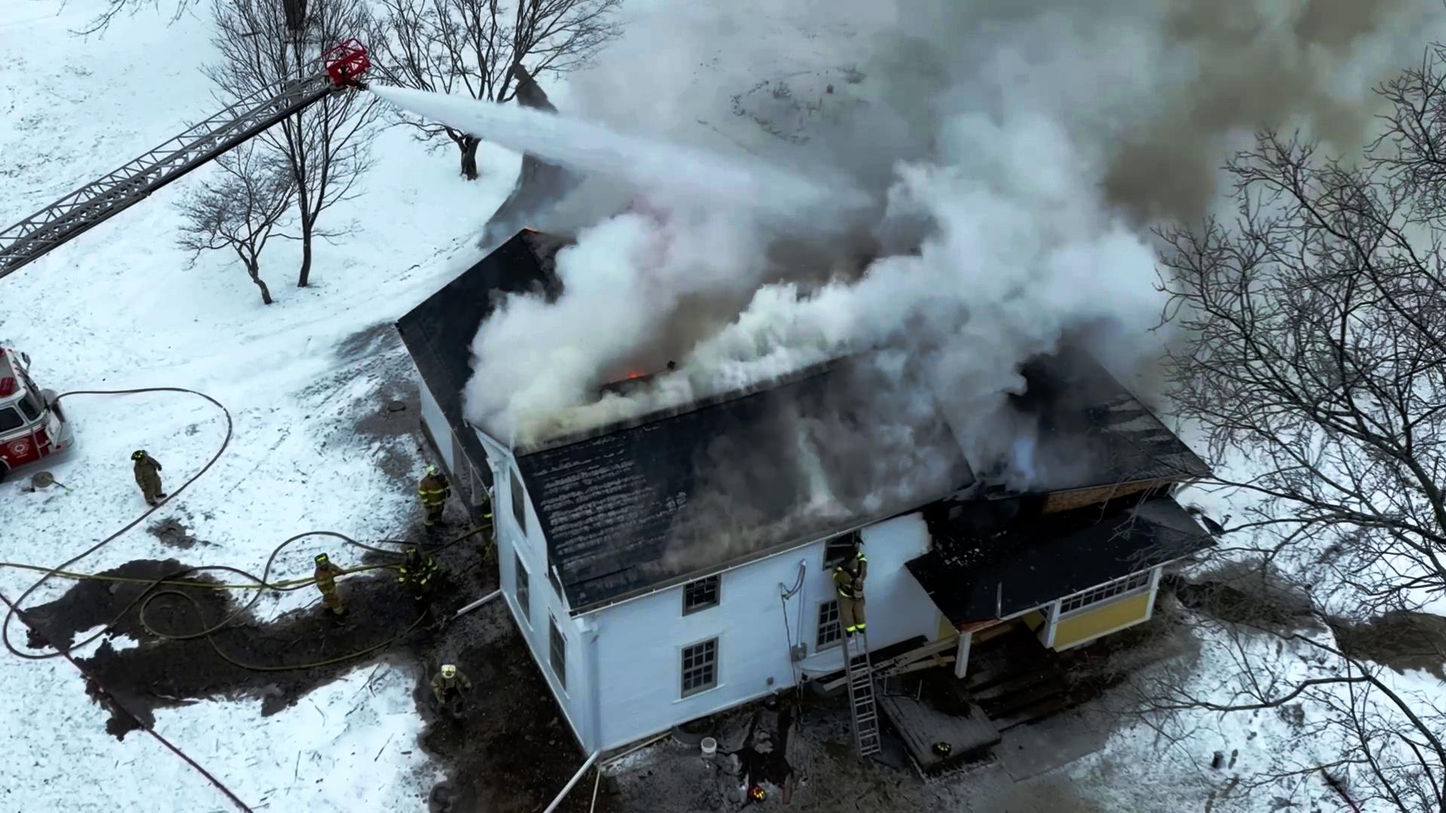smoke: (650, 0, 1120, 226)
